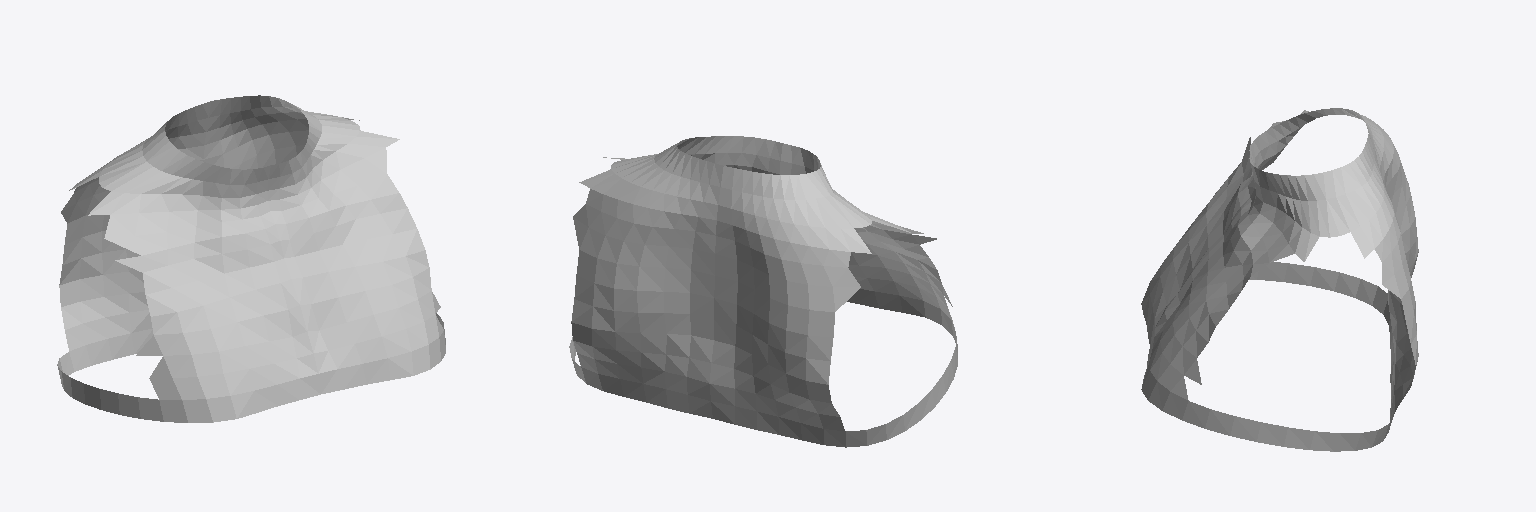
File: Chest2.obj
3 renders of one model, left to right at view 1: azimuth 30°, elevation 25°; view 2: azimuth 150°, elevation 25°; view 3: azimuth 270°, elevation 25°, orthographic.
Parts seen in each view (by area): view 1: polySurface35 polySurface22 polySurface18 polySurface13 polySurf; view 2: polySurface35 polySurface22 polySurface18 polySurface13 polySurf; view 3: polySurface35 polySurface22 polySurface18 polySurface13 polySurf.
Part boxes in pixels (x1,y1,x2,y2): polySurface35 polySurface22 polySurface18 polySurface13 polySurf: (57,95,445,422); polySurface35 polySurface22 polySurface18 polySurface13 polySurf: (569,136,957,447); polySurface35 polySurface22 polySurface18 polySurface13 polySurf: (1141,108,1418,451).
Size of the model in its own units: 14.31 by 9.93 by 10.18.